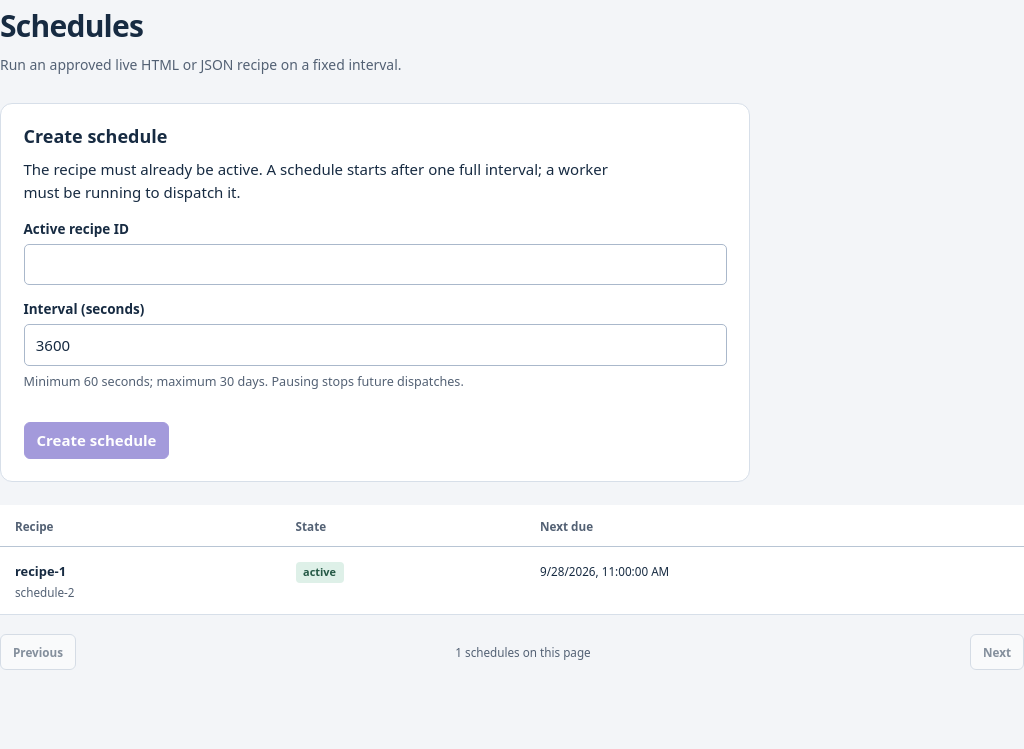
Scenario: operator controls › replaces a failed schedule detail load with an error and retries it
Step 1. Click the button "recipe-1 schedule-2" → (140, 581), box top-left (15, 562), bottom-right (266, 600)
(page scrolled)
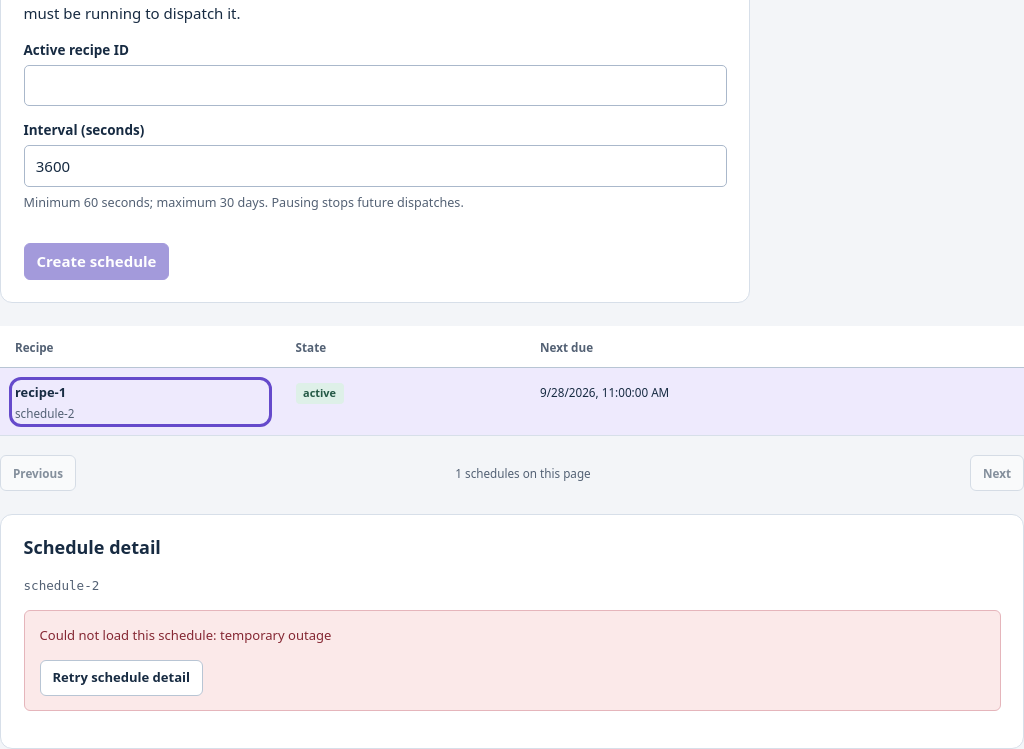
expect the button "Pause schedule" is not shown: met
expect the message shows "temporary outage": met, box top-left (220, 626), bottom-right (331, 644)
Step 2. Click the button "Retry schedule detail" → (121, 678), box top-left (40, 660), bottom-right (203, 696)
(page scrolled)
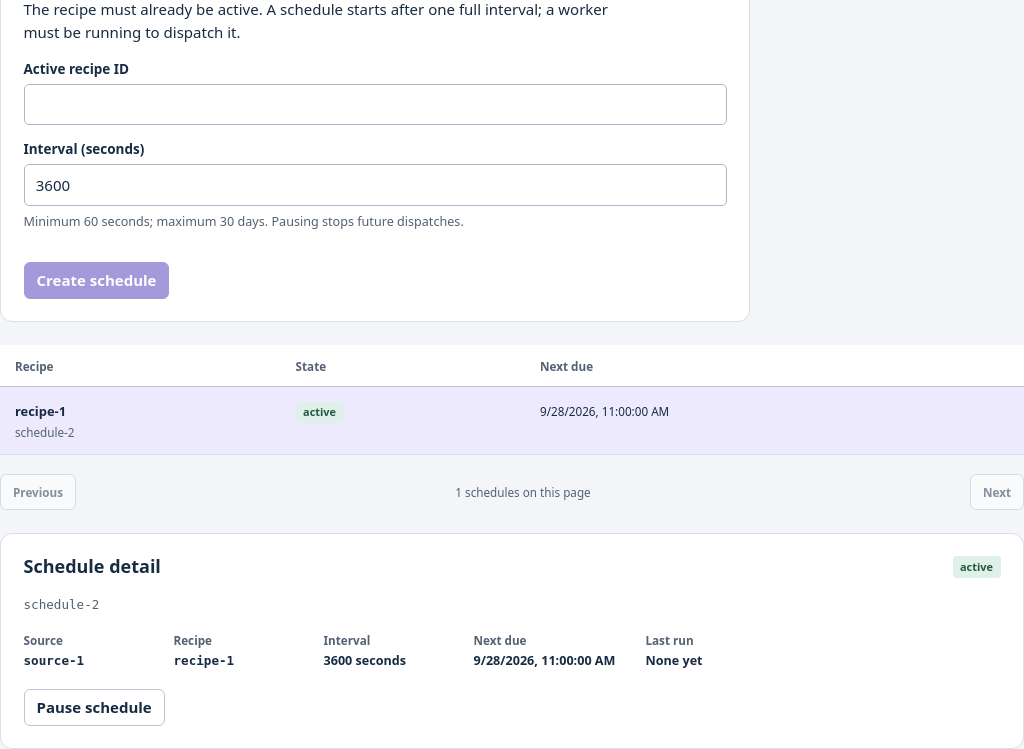
expect the button "Pause schedule" is shown: met, box top-left (24, 689), bottom-right (165, 726)
